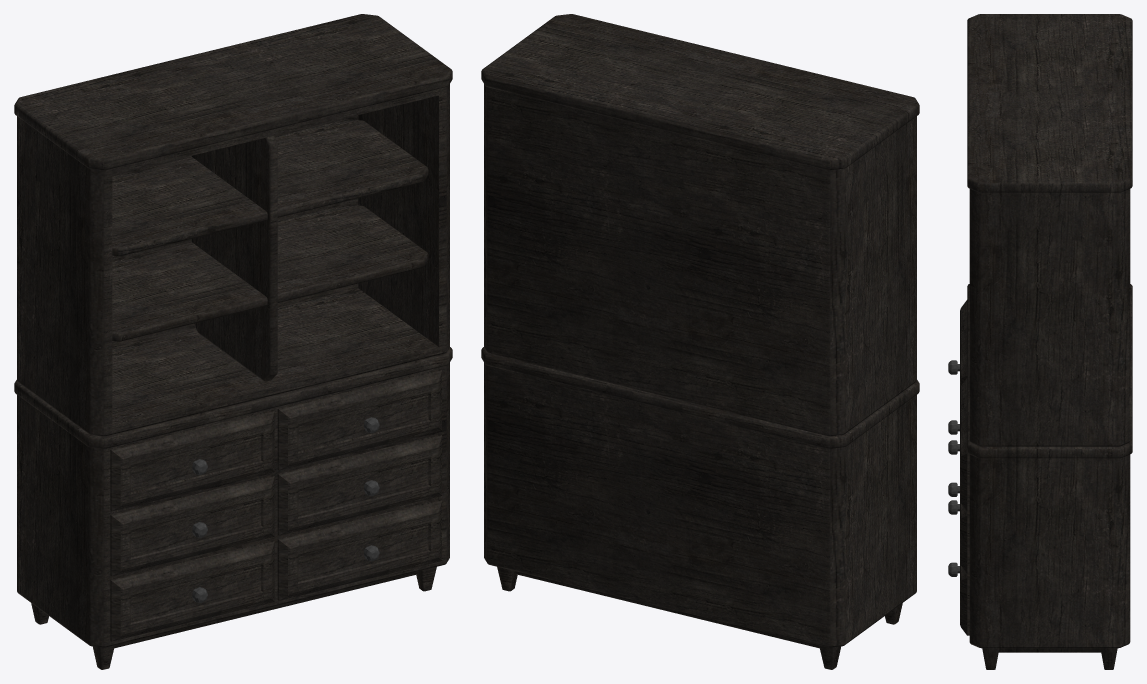
Rendered from wardrobe_10.obj.
3 views of the same model, side by side, from view 1: azimuth 30°, elevation 25°; view 2: azimuth 150°, elevation 25°; view 3: azimuth 270°, elevation 25° (orthographic). The views are drawn at different scales.
Parts seen in each view (by area): view 1: wardrobe_10, wardrobe_10_drawer_2, wardrobe_10_drawer_3, wardrobe_10_drawer_1, wardrobe_10_drawer_6, wardrobe_10_drawer_5, wardrobe_10_drawer_4; view 2: wardrobe_10; view 3: wardrobe_10, wardrobe_10_drawer_4, wardrobe_10_drawer_3, wardrobe_10_drawer_6, wardrobe_10_drawer_5.
Boxes of the visible parts, x1,y1,x2,y2 form: wardrobe_10: (14,14,452,669); wardrobe_10_drawer_2: (110,475,274,576); wardrobe_10_drawer_3: (110,410,274,511); wardrobe_10_drawer_1: (110,540,274,641); wardrobe_10_drawer_6: (277,499,441,600); wardrobe_10_drawer_5: (277,434,441,535); wardrobe_10_drawer_4: (277,369,441,470); wardrobe_10: (481,14,919,669); wardrobe_10: (967,14,1132,669); wardrobe_10_drawer_4: (948,378,969,511); wardrobe_10_drawer_3: (948,300,967,387); wardrobe_10_drawer_6: (948,562,969,635); wardrobe_10_drawer_5: (948,500,969,573).
Bounding box in the file's own units: 1.7 × 2.31 × 0.78.
